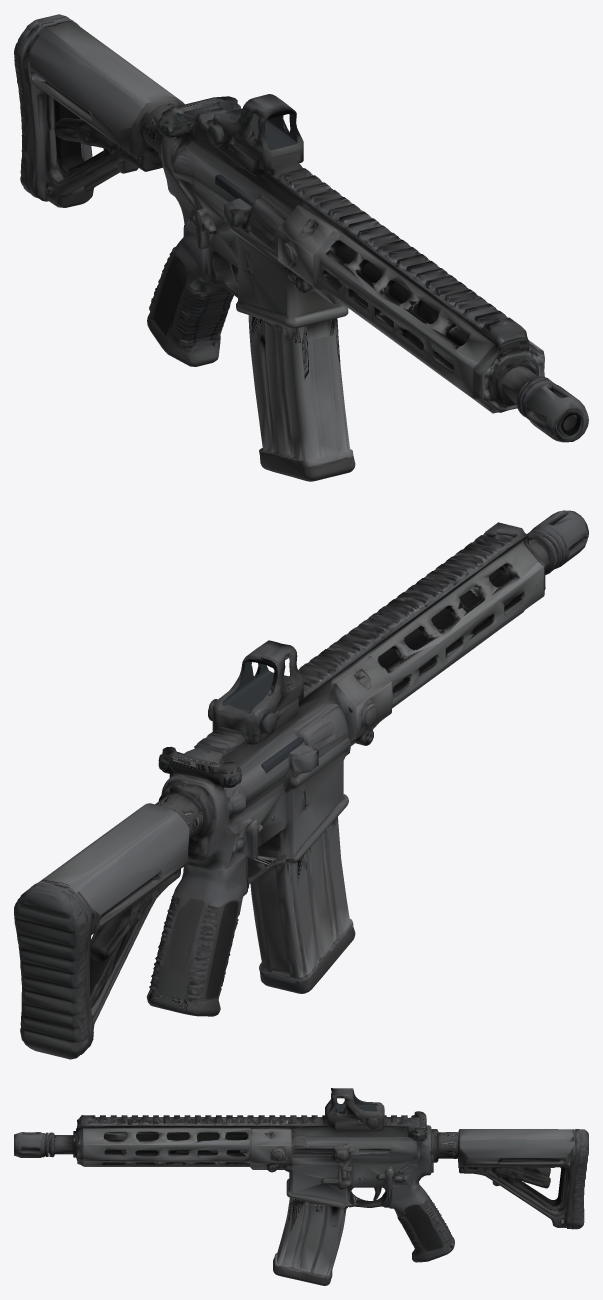
The picture shows the model from 3 angles, top to bottom: view 1: azimuth 30°, elevation 25°; view 2: azimuth 150°, elevation 25°; view 3: azimuth 270°, elevation 25°; orthographic projection. The views are drawn at different scales.
Visible parts, largest first — view 1: Body, Stock, Magazine, ChargingHandle; view 2: Body, Stock, Magazine, ChargingHandle; view 3: Body, Stock, Magazine.
Boxes of the visible parts, x1,y1,x2,y2 form: Body: (147, 94, 588, 442); Stock: (14, 14, 184, 207); Magazine: (236, 309, 355, 481); ChargingHandle: (158, 96, 240, 133); Body: (146, 510, 588, 1016); Stock: (14, 802, 190, 1059); Magazine: (248, 823, 355, 993); ChargingHandle: (158, 746, 241, 783); Body: (14, 1088, 452, 1262); Stock: (452, 1129, 588, 1249); Magazine: (273, 1196, 357, 1285).
Bounding box in the file's own units: 13.32 × 51.7 × 141.
